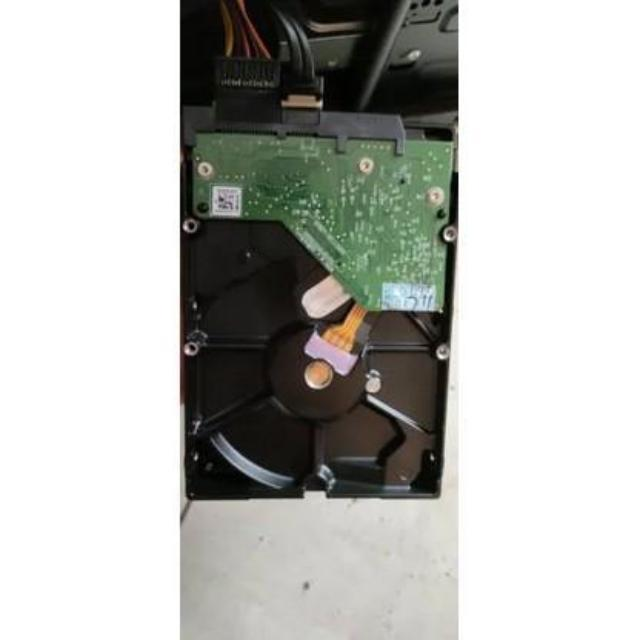DISK: (168, 94, 460, 506)
